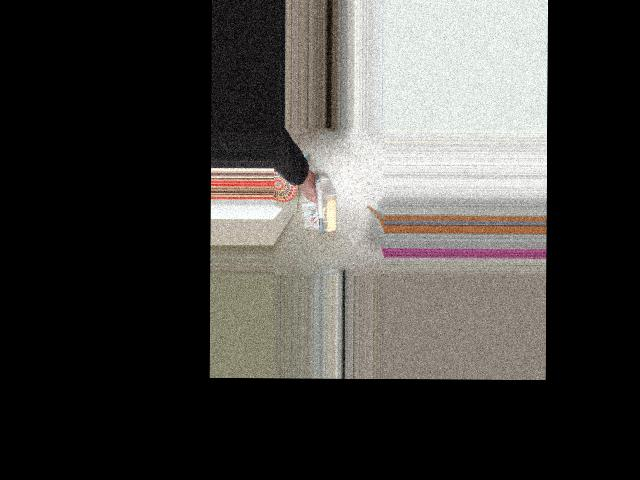cheese: (302, 174, 344, 235)
